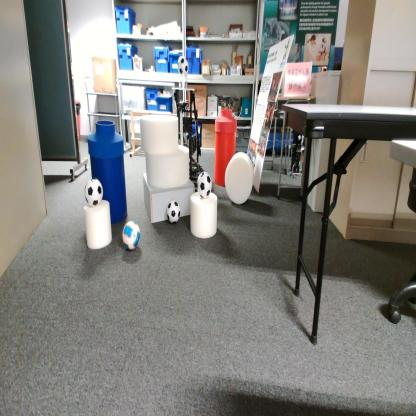ball: (84, 176, 104, 209), (122, 219, 140, 252), (196, 170, 212, 200), (166, 198, 181, 225), (177, 55, 189, 78)
